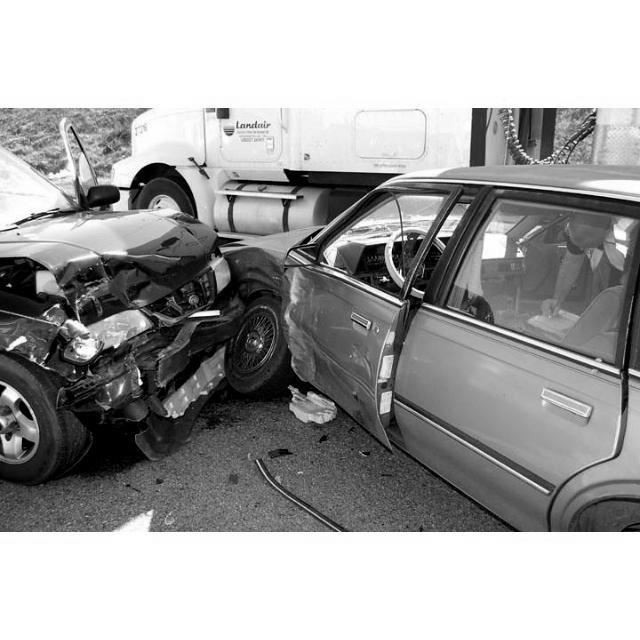Headlight-damage: (43, 302, 141, 371)
bonnet-dent: (7, 217, 210, 313)
doorouter-dent: (285, 221, 399, 404)
fender-dent: (231, 242, 296, 290)
front-bumper-dent: (152, 327, 253, 413)
